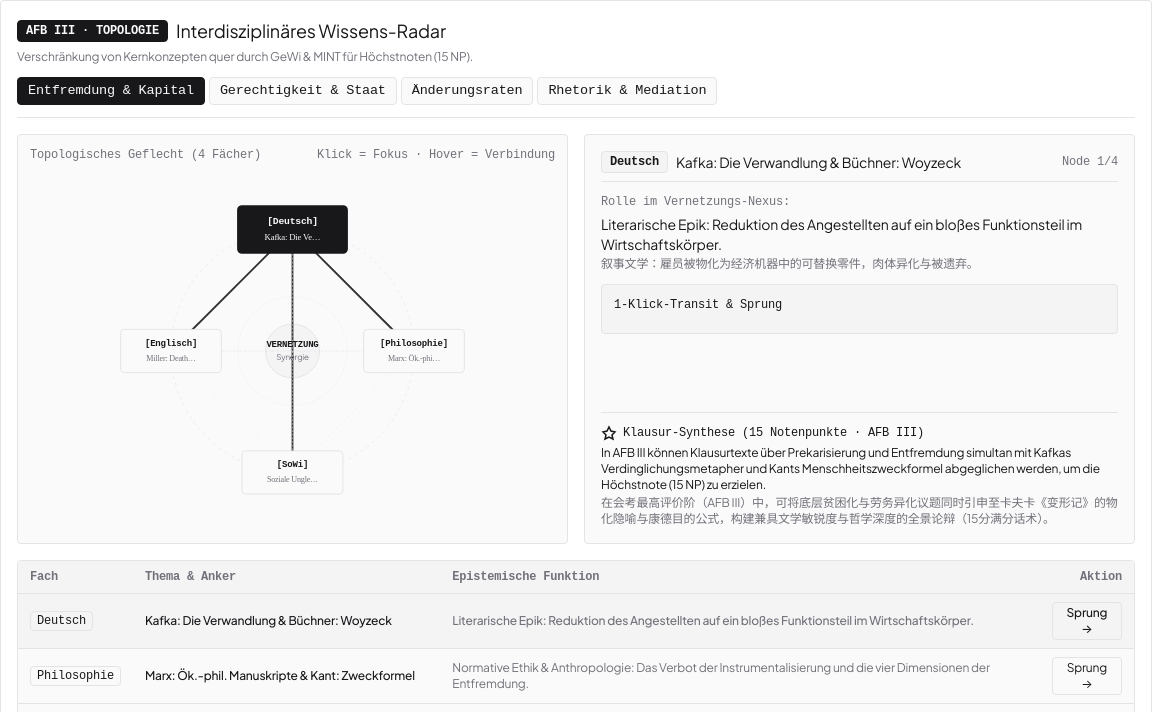
CrossDisciplinarySandbox (Interdisziplinäres Wissens-Radar) › switches to justice & welfare cluster and updates content
Click the button "Gerechtigkeit & Staat".
click(303, 91)  # box [209,77,397,105]
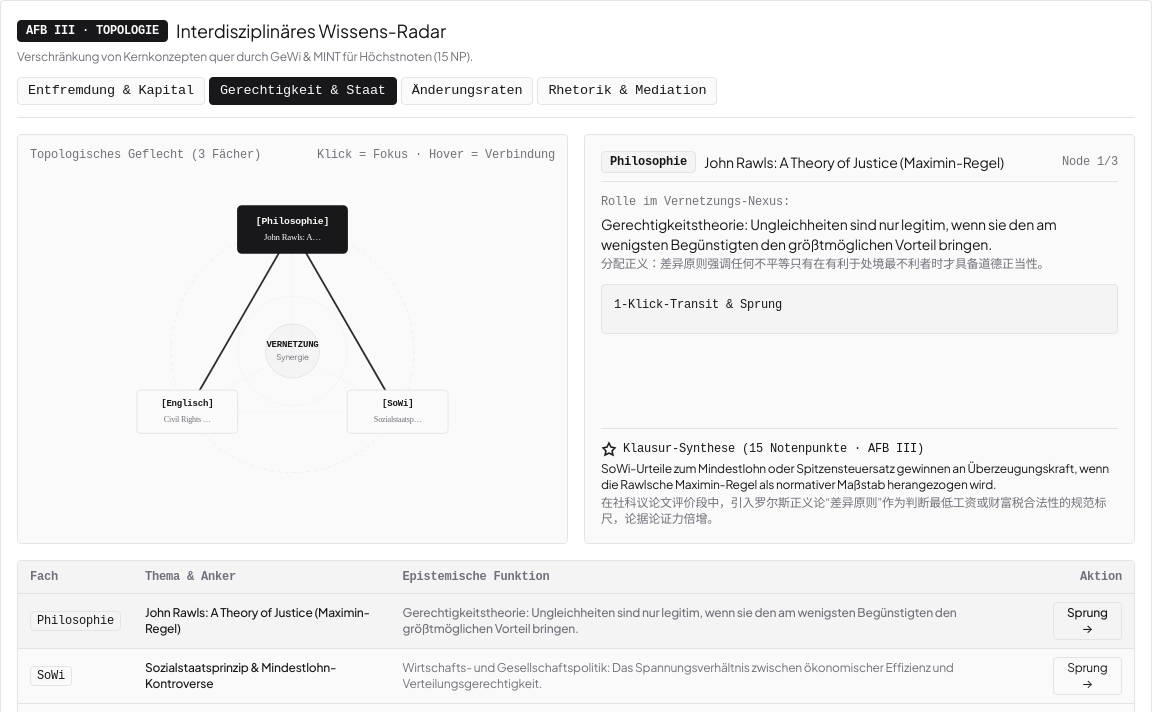
Expected: the text "John Rawls" is shown, [264,232,321,242]
Now the text "Sozialstaatsprinzip & Mindestlohn-Kontroverse" is shown, box [133,648,391,704]
